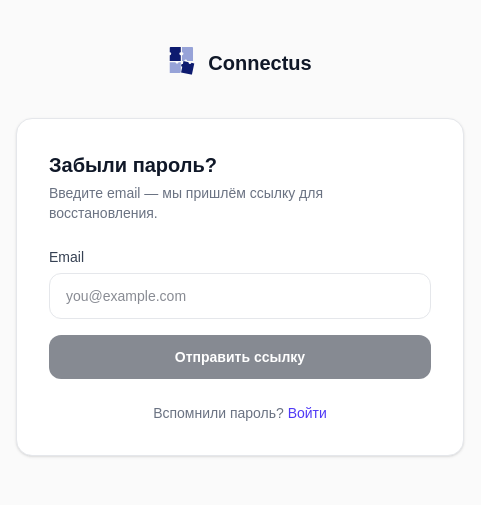
Test: ForgotPasswordPage › shows an error message when the request fails
Type "student@example.com" into the field with placeholder "you@example.com" at [240, 296], box [49,272,431,318]
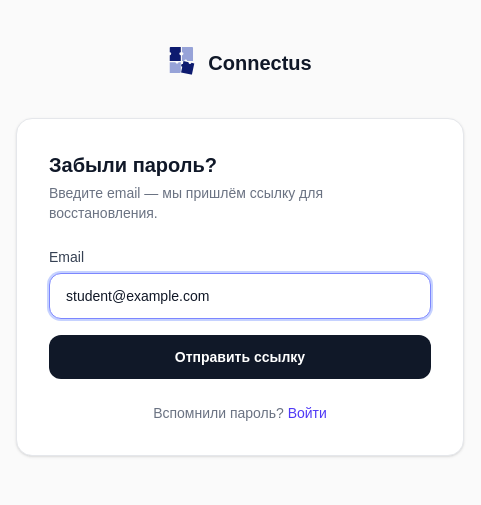
Click the button "Отправить ссылку" at [240, 356], box [49,334,431,378]
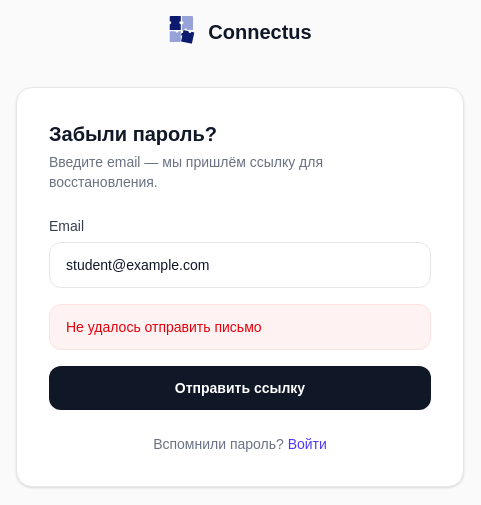
Now the text "Не удалось отправить письмо" is shown, box [49,304,431,350]
